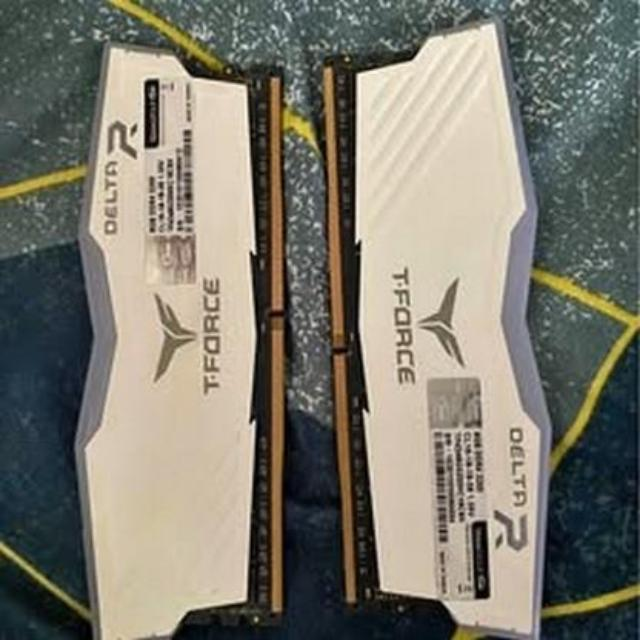RAM: (316, 9, 561, 640), (65, 31, 292, 640)
